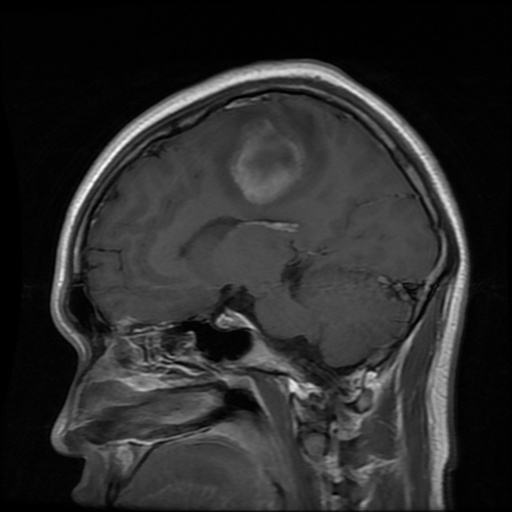glioma: (228, 111, 306, 204)
